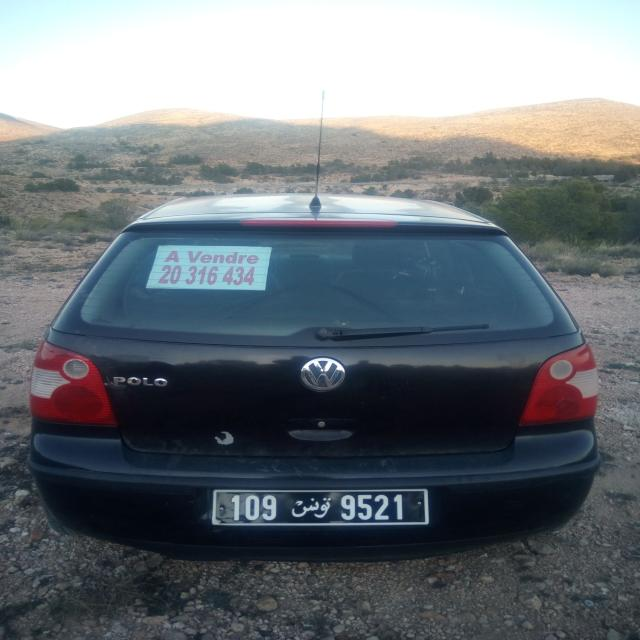LP: (210, 486, 428, 526)
